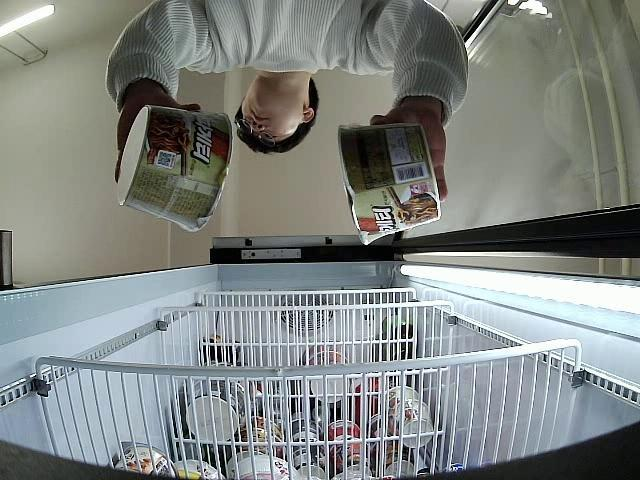03_chapagetti_L: (115, 104, 232, 232), (338, 122, 441, 245)
